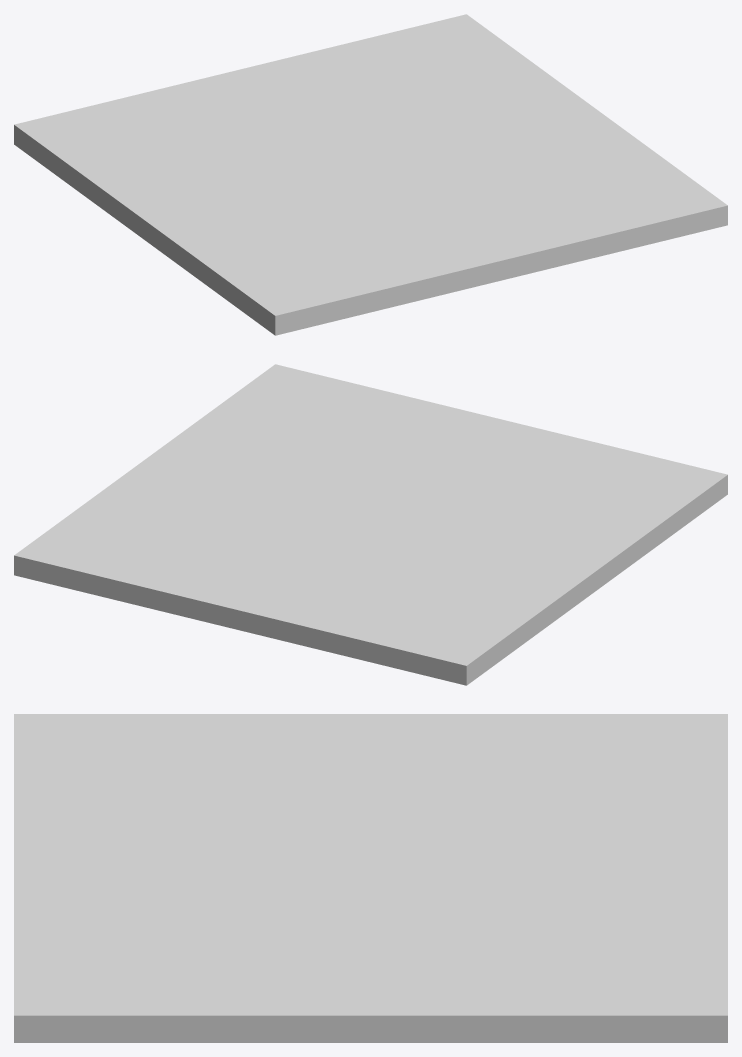
File: Minimal_Wide.glb
3 renders of one model, top to bottom at view 1: azimuth 30°, elevation 25°; view 2: azimuth 150°, elevation 25°; view 3: azimuth 270°, elevation 25°, orthographic. The views are drawn at different scales.
Visible parts, largest first — view 1: PF_Basic; view 2: PF_Basic; view 3: PF_Basic.
Boxes of the visible parts, x1=… form: PF_Basic: x1=14, y1=14, x2=727, y2=335; PF_Basic: x1=14, y1=364, x2=727, y2=685; PF_Basic: x1=14, y1=714, x2=727, y2=1042.
Size of the model in its own units: 1.3 by 0.0543 by 1.3.
3 materials, 1 textured.
